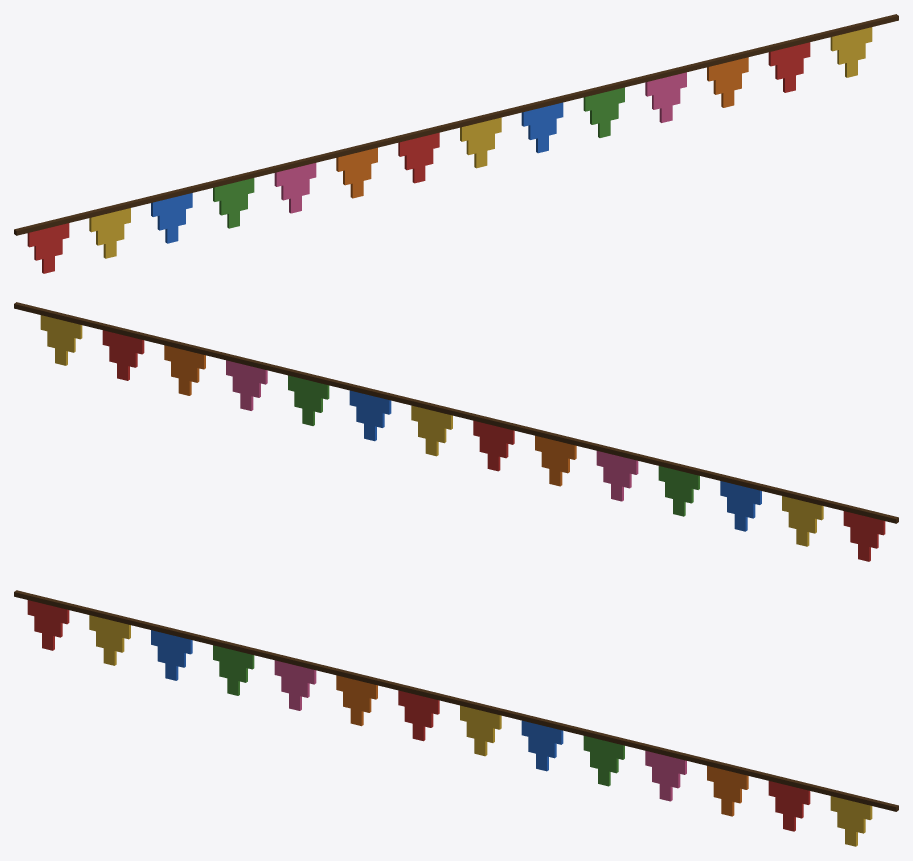
The model's file is th-bunting.glb.
3 views of the same model, one above another, from view 1: azimuth 30°, elevation 25°; view 2: azimuth 150°, elevation 25°; view 3: azimuth 330°, elevation 25° (orthographic).
Visible parts, largest first — view 1: box-prop; view 2: box-prop; view 3: box-prop.
Boxes of the visible parts, left/top/right/bottom form: box-prop: left=14, top=14, right=898, bottom=273; box-prop: left=14, top=302, right=898, bottom=561; box-prop: left=14, top=590, right=898, bottom=846.
Size of the model in its own units: 8 by 0.43 by 0.04.
